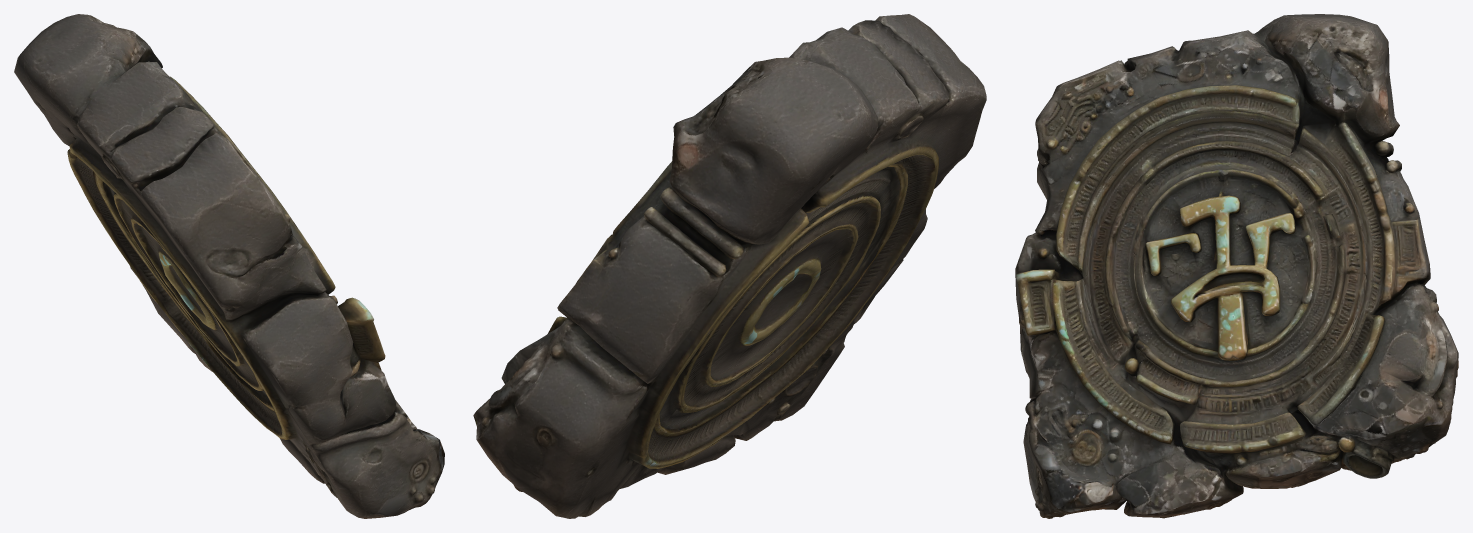
File: pro_resonant_glyph_monolith_LOD0.glb
3 views of the same model, side by side, from view 1: azimuth 30°, elevation 25°; view 2: azimuth 150°, elevation 25°; view 3: azimuth 270°, elevation 25° (orthographic). The views are drawn at different scales.
Visible parts, largest first — view 1: tripo_node_a77fbda4-d66e-44b2-bb0c-b2b75267498e; view 2: tripo_node_a77fbda4-d66e-44b2-bb0c-b2b75267498e; view 3: tripo_node_a77fbda4-d66e-44b2-bb0c-b2b75267498e.
Boxes of the visible parts, x1,y1,x2,y2 form: tripo_node_a77fbda4-d66e-44b2-bb0c-b2b75267498e: [14, 14, 444, 518]; tripo_node_a77fbda4-d66e-44b2-bb0c-b2b75267498e: [473, 14, 986, 518]; tripo_node_a77fbda4-d66e-44b2-bb0c-b2b75267498e: [1015, 14, 1458, 518].
Bounding box in the file's own units: 0.7129 × 0.998 × 0.9629.
1 material, 1 textured.
